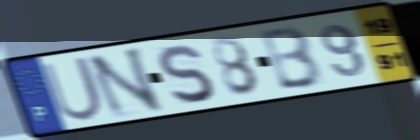8: (211, 36, 261, 98)
9: (318, 22, 367, 79)
B: (258, 23, 326, 93)
N: (84, 44, 167, 122)
S: (155, 42, 216, 107)
U: (39, 53, 106, 123)
